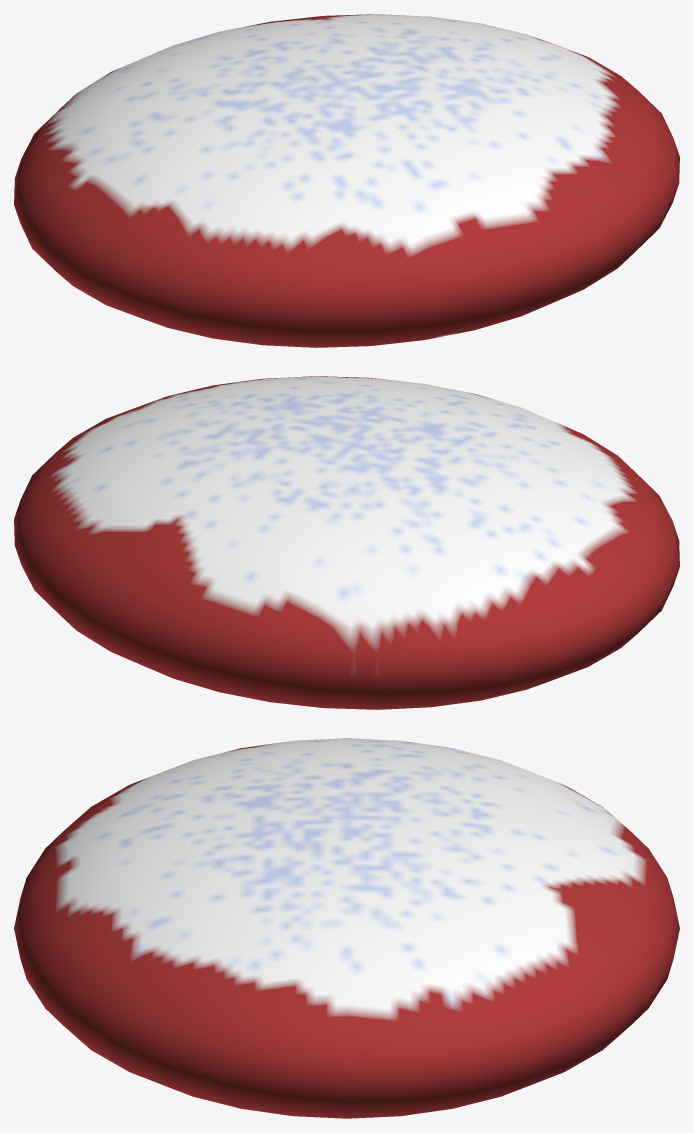
Rendered from Mushroom_01_Top.obj.
The picture shows the model from 3 angles, top to bottom: view 1: azimuth 30°, elevation 25°; view 2: azimuth 150°, elevation 25°; view 3: azimuth 270°, elevation 25°; orthographic projection. The views are drawn at different scales.
Parts seen in each view (by area): view 1: Top; view 2: Top; view 3: Top.
Part boxes in pixels (bbox=[...]): Top: bbox=[14, 14, 679, 347]; Top: bbox=[14, 376, 679, 709]; Top: bbox=[14, 738, 679, 1118].
Bounding box in the file's own units: 6.21 × 2 × 5.59.
